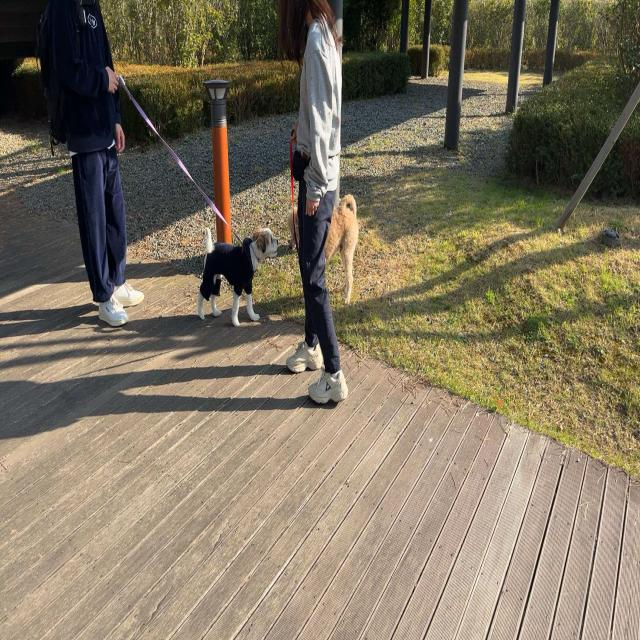Leashed_Dog: (88, 53, 280, 329), (286, 114, 360, 306)
